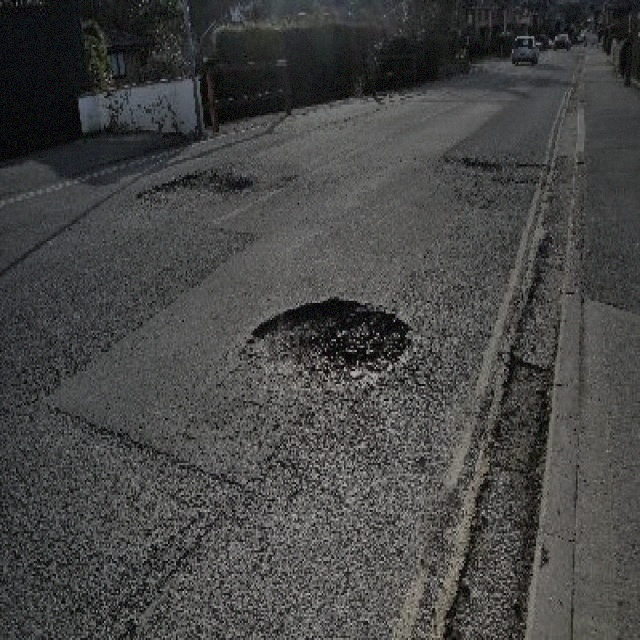pothole: (238, 292, 416, 390), (133, 166, 251, 205)
